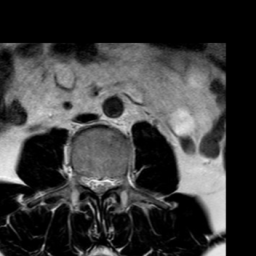CCS_normal: (94, 168, 102, 210)
LFS_normal: (111, 169, 120, 194)
LLS_normal: (102, 165, 111, 198)
RFS_normal: (76, 165, 85, 192)
RLS_normal: (85, 167, 93, 197)
